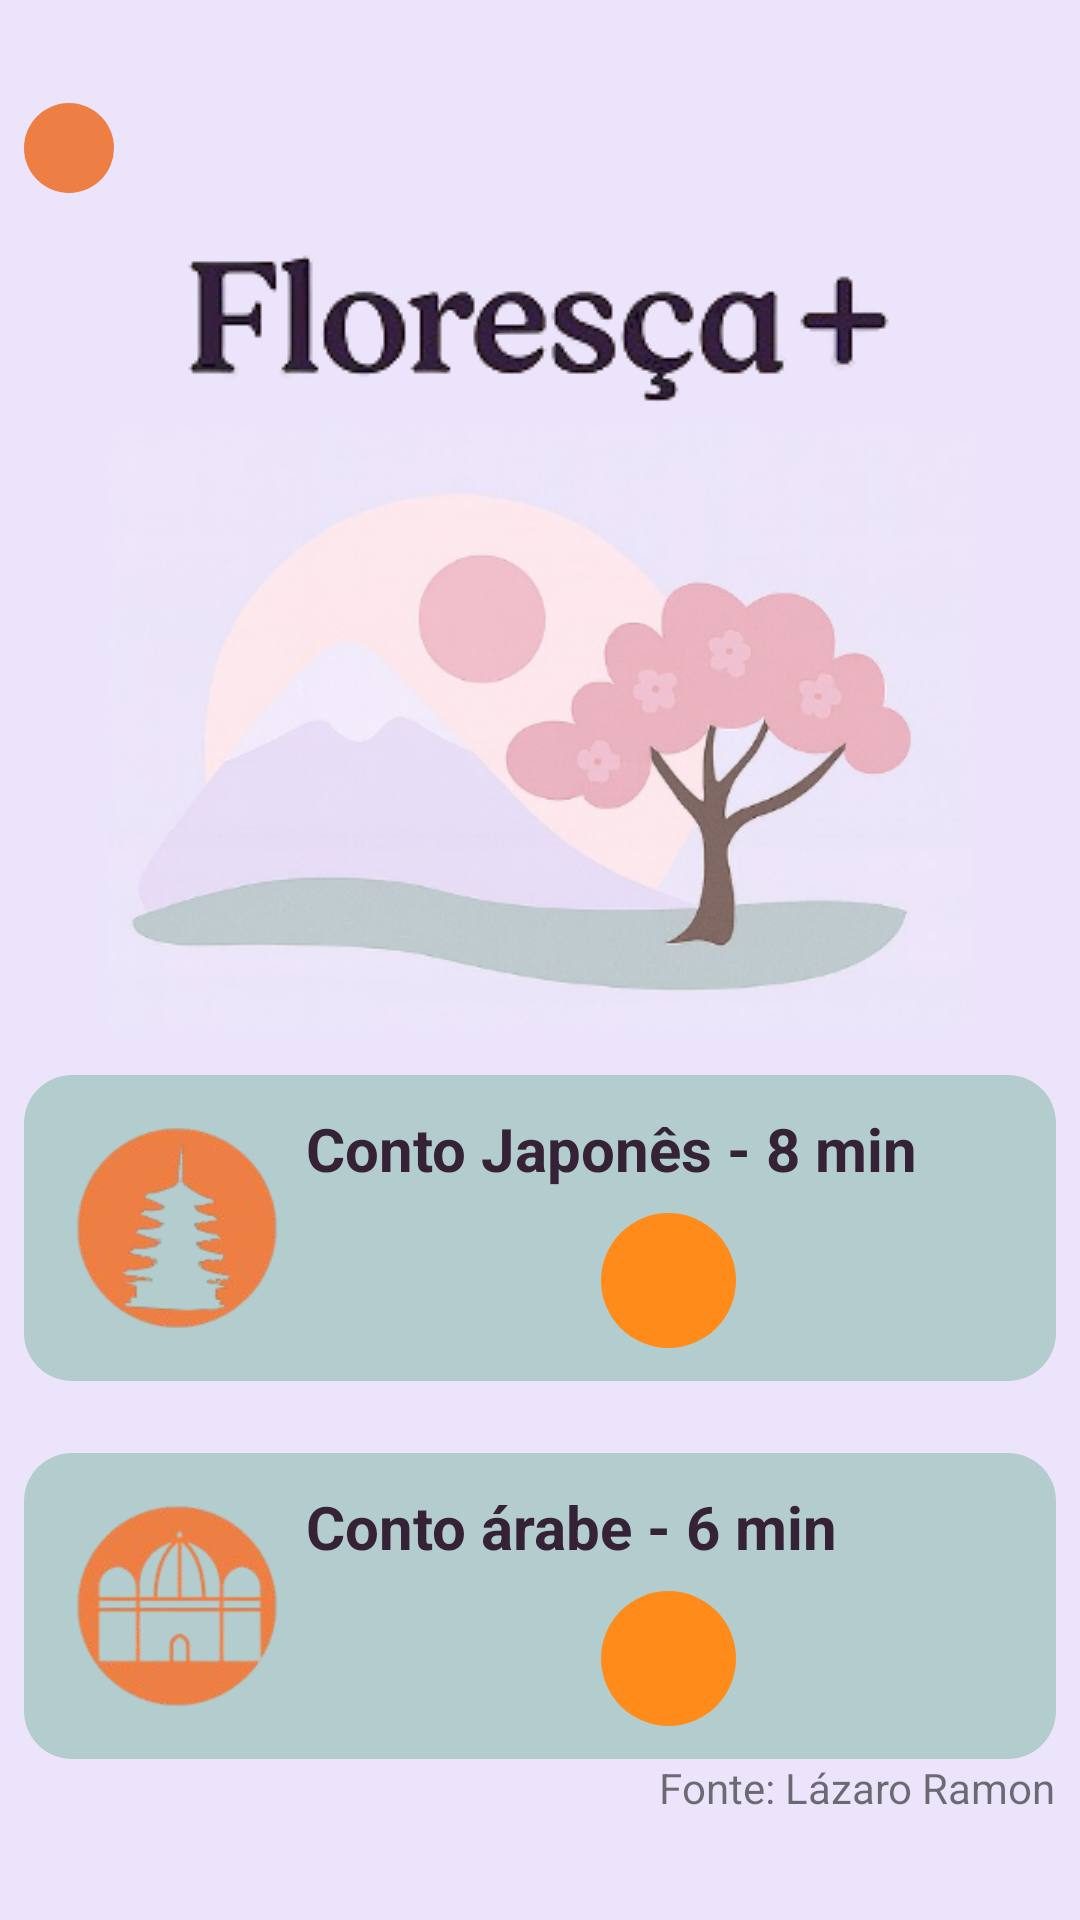

Point at icon controls on the screen. Image size 1080*1920, points as (x,y).
arabe: (177,1606)
japones: (177,1228)
